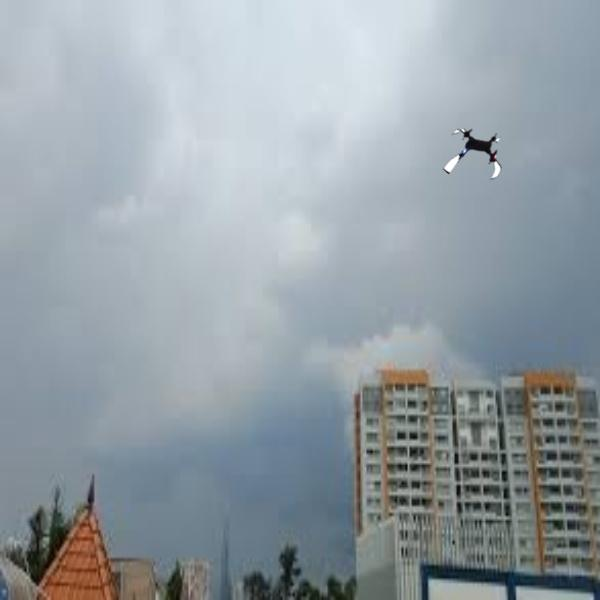drone: (444, 122, 510, 188)
